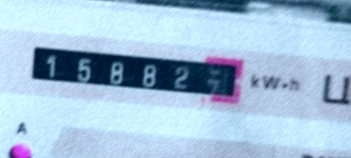1: (42, 53, 59, 79)
2: (172, 64, 189, 89)
5: (74, 55, 93, 83)
7: (205, 75, 220, 96)
8: (107, 59, 126, 87), (140, 62, 158, 88)
screen: (15, 29, 253, 116)
